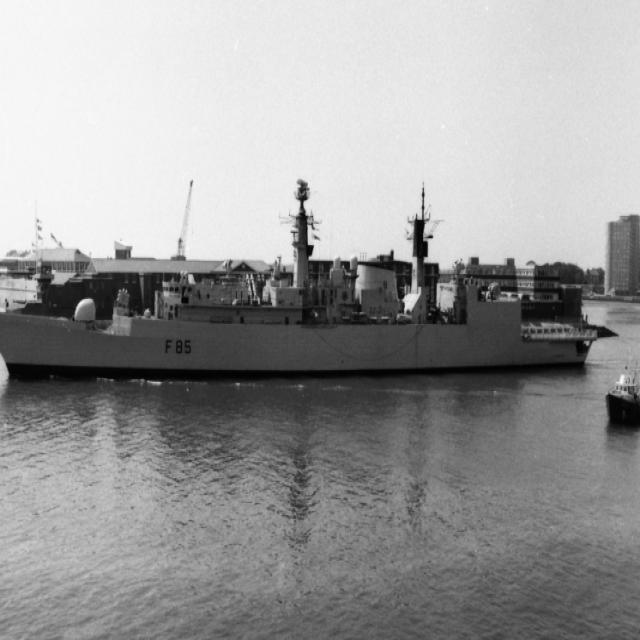Fragata: (1, 154, 596, 396)
